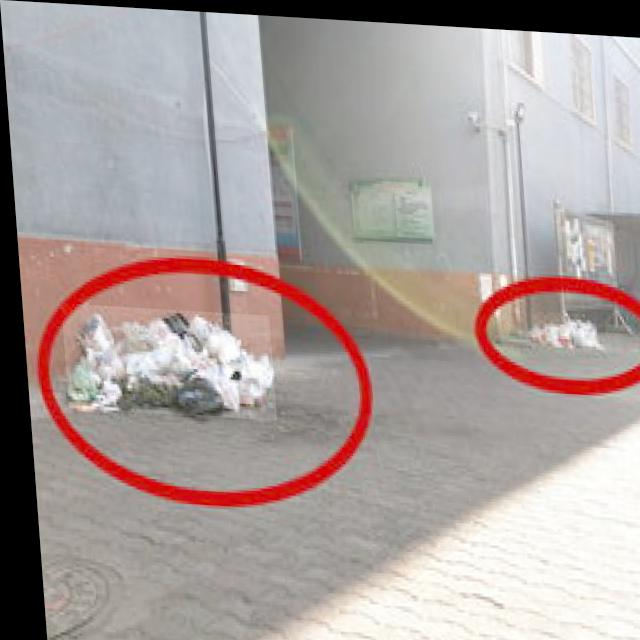garbage: (56, 303, 271, 417), (519, 304, 595, 343)
